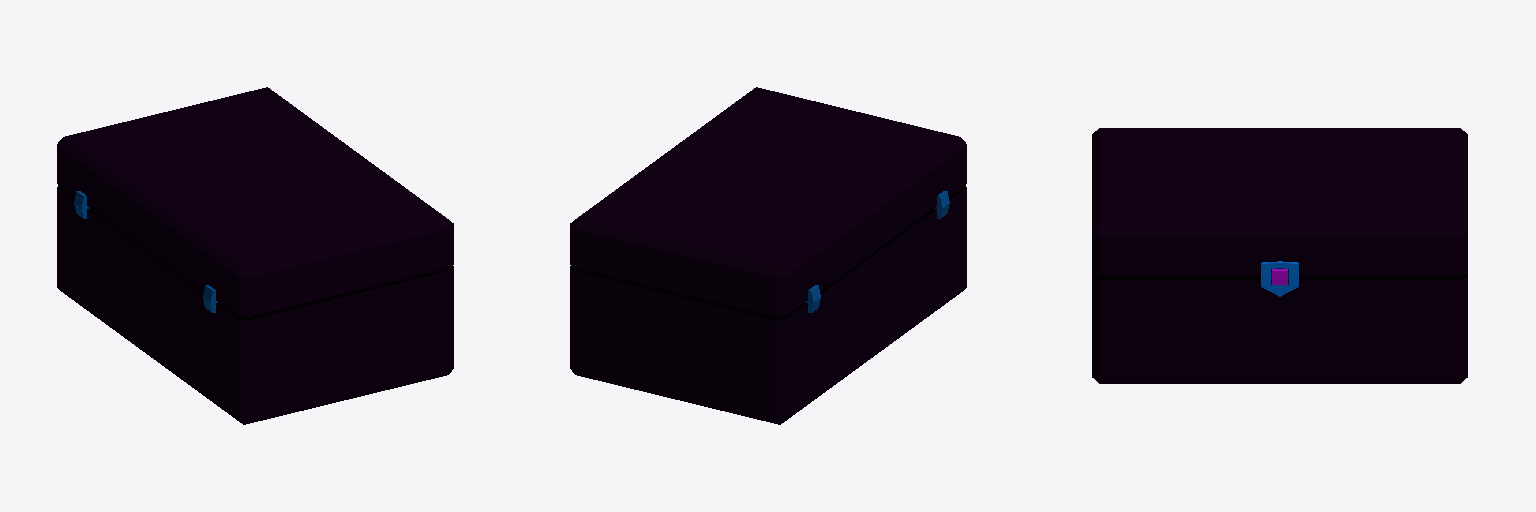
The picture shows the model from 3 angles: view 1: azimuth 30°, elevation 25°; view 2: azimuth 150°, elevation 25°; view 3: azimuth 270°, elevation 25°; orthographic projection.
Parts seen in each view (by area): view 1: Box, Hinges; view 2: Box, Hinges; view 3: Box, Lock.
Boxes of the visible parts, box(x1,y1,x2,y2) form: Box: box(57, 87, 453, 424); Hinges: box(74, 191, 217, 312); Box: box(570, 87, 966, 424); Hinges: box(806, 191, 949, 312); Box: box(1092, 128, 1467, 383); Lock: box(1261, 261, 1298, 296).
Bounding box in the file's own units: 0.4202 × 0.275 × 0.6.